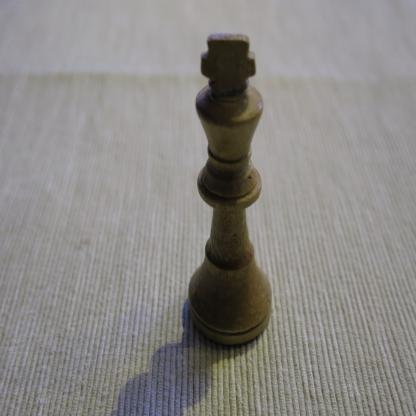white-king: (188, 32, 273, 346)
